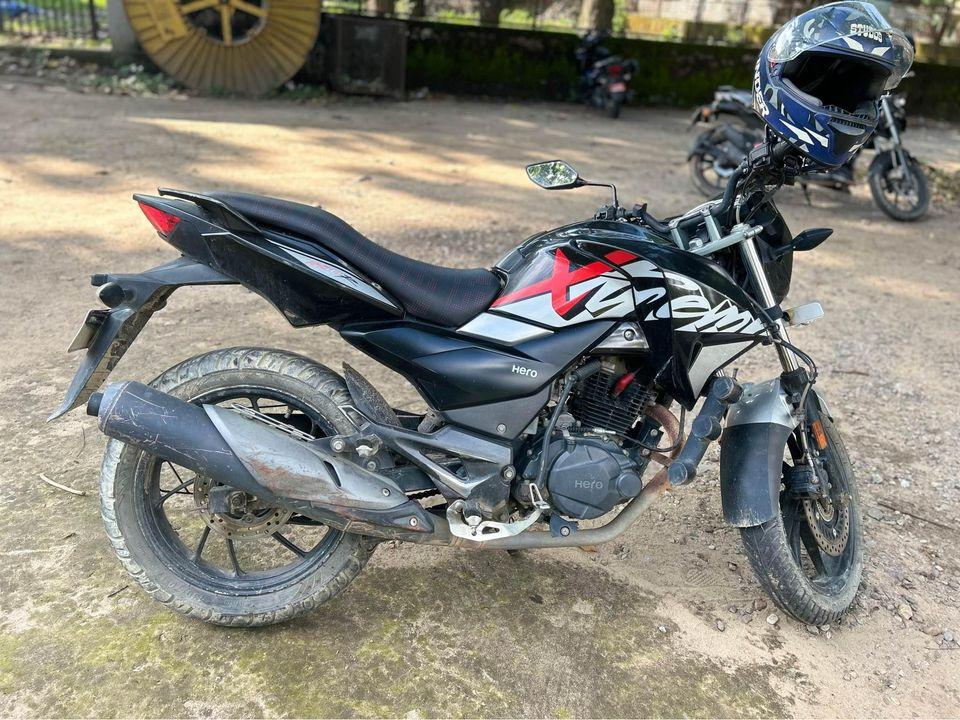bike: (36, 114, 870, 644)
